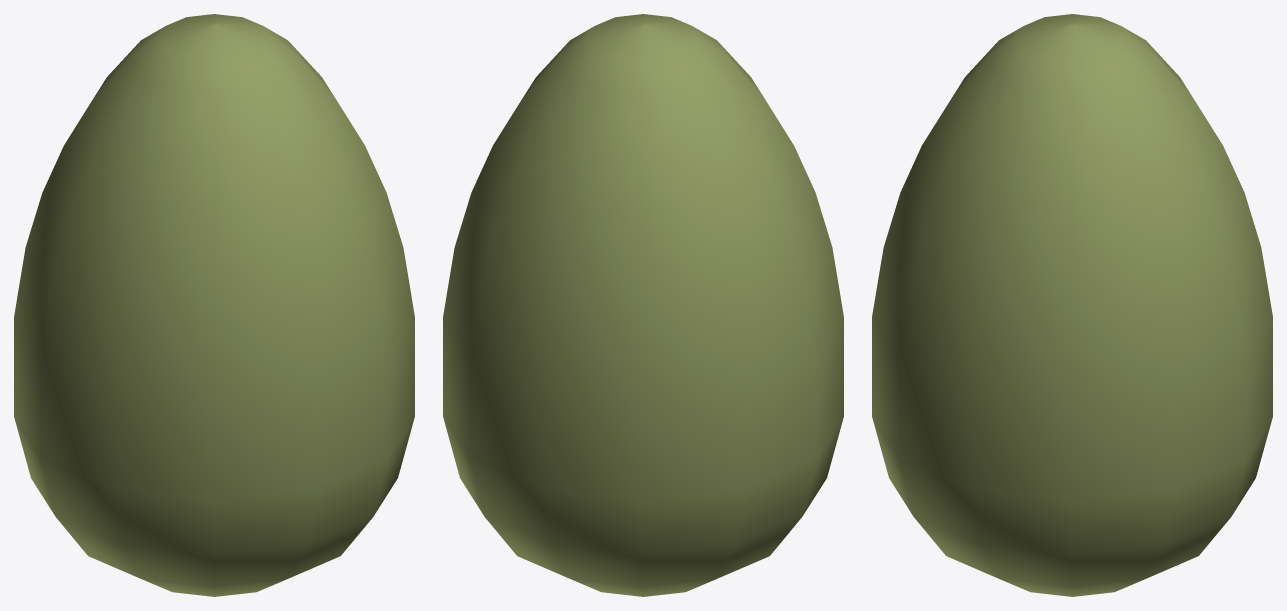
File: Spanish_Broom_Analytical_0.obj
The picture shows the model from 3 angles, left to right: view 1: azimuth 30°, elevation 25°; view 2: azimuth 150°, elevation 25°; view 3: azimuth 270°, elevation 25°; orthographic projection.
Parts seen in each view (by area): view 1: AnalyticalCrown; view 2: AnalyticalCrown; view 3: AnalyticalCrown.
Boxes of the visible parts, left/top/right/bottom form: AnalyticalCrown: left=14, top=14, right=414, bottom=596; AnalyticalCrown: left=443, top=14, right=843, bottom=596; AnalyticalCrown: left=872, top=14, right=1272, bottom=596.
Bounding box in the file's own units: 1.98 × 3 × 1.98.
